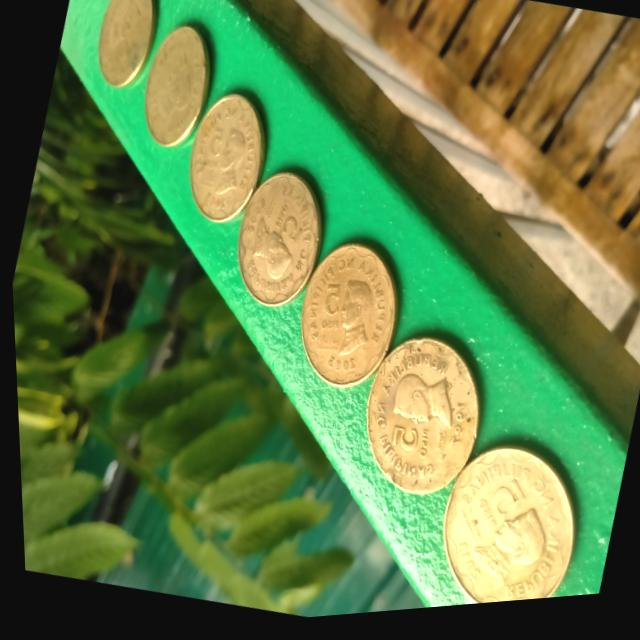5_Old_Front: (367, 357, 475, 485), (300, 264, 389, 377)
